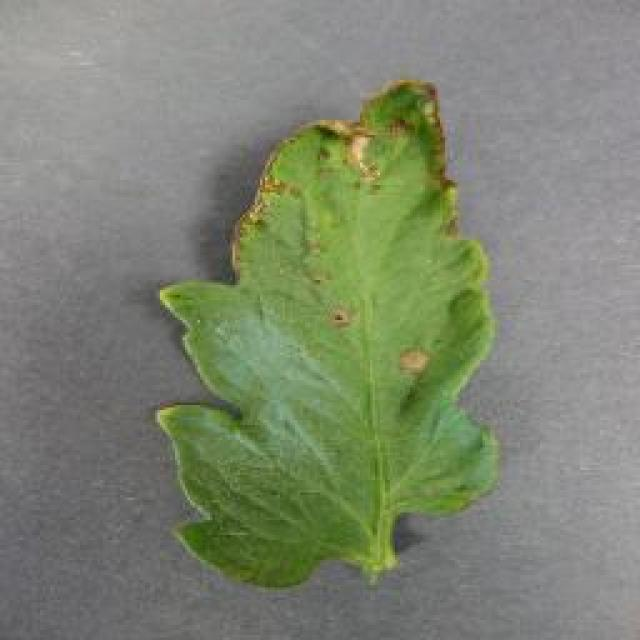Tomato___Bacterial_spot: (152, 80, 503, 591)
